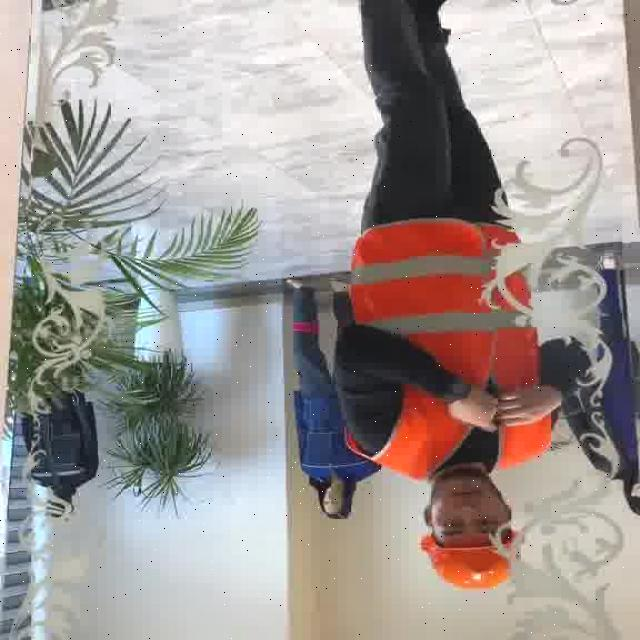Helmet: (419, 535, 524, 591)
Vest: (343, 214, 555, 486)
